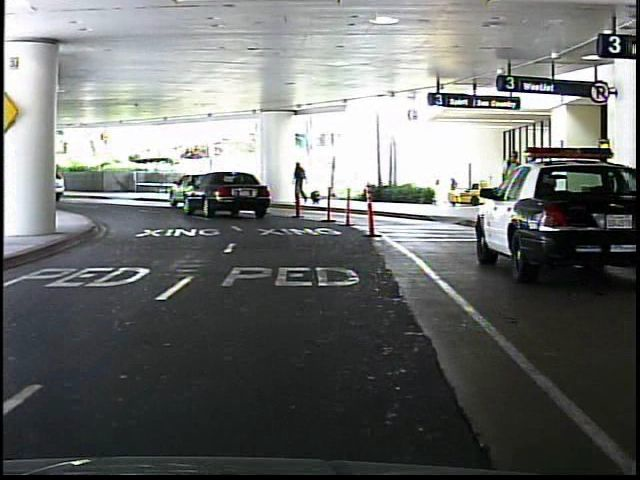person: (498, 146, 525, 226), (289, 161, 316, 209)
